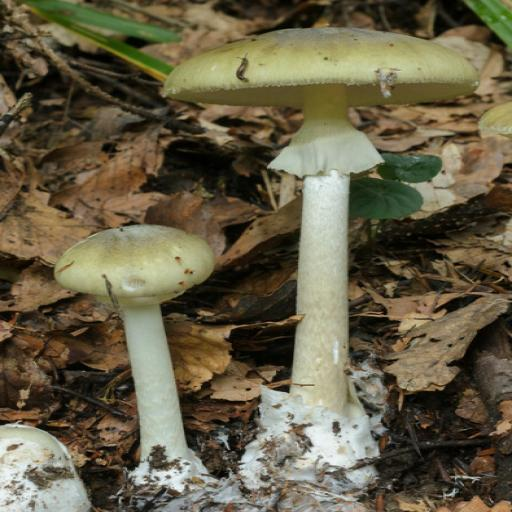mushroom: (11, 0, 477, 512)
